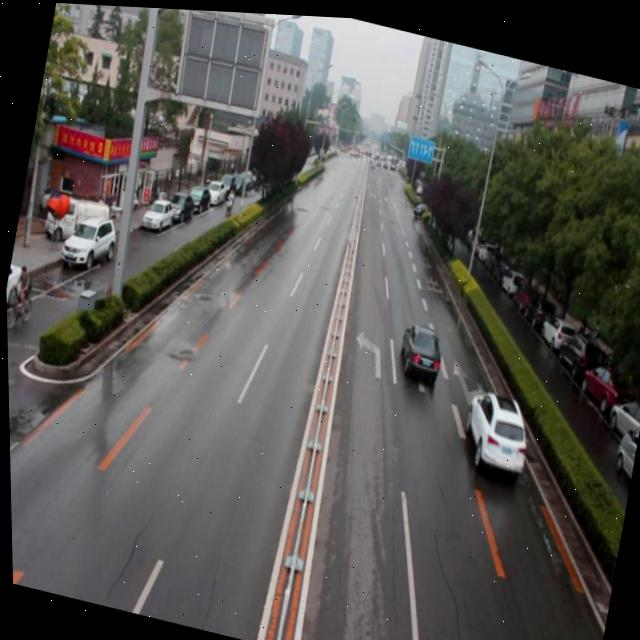car: (456, 383, 534, 471), (394, 312, 445, 379), (411, 196, 428, 215)
